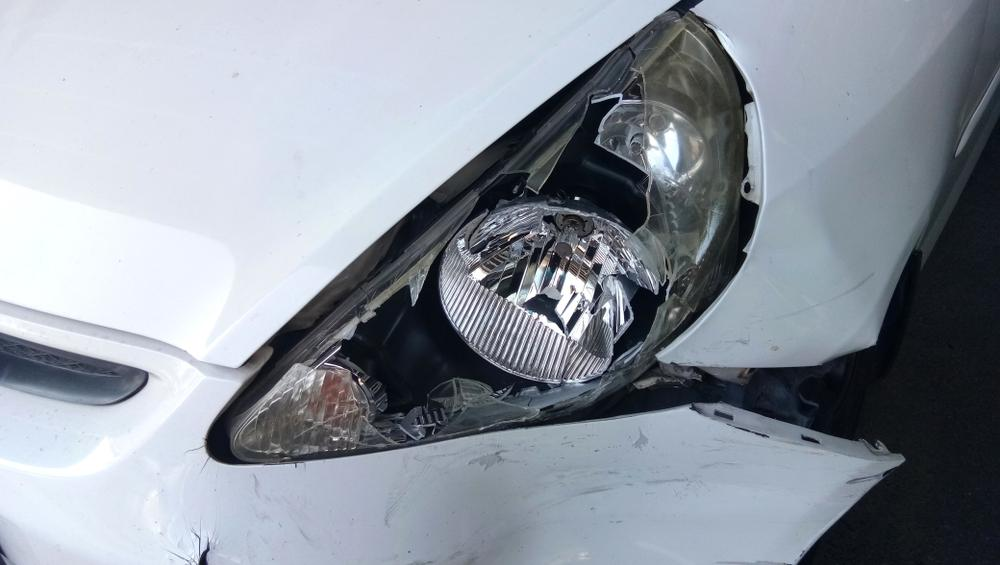crack: (197, 534, 210, 565)
dent: (401, 428, 867, 565)
lamp broken: (221, 10, 757, 465)
